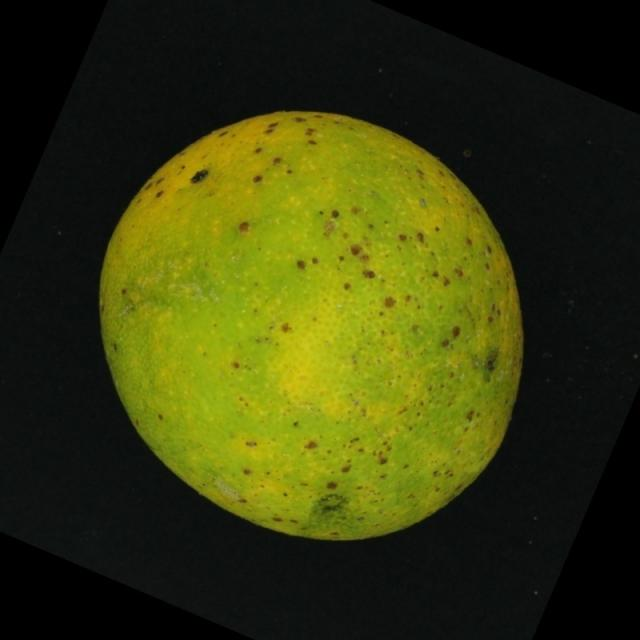grenning: (76, 92, 553, 563)
